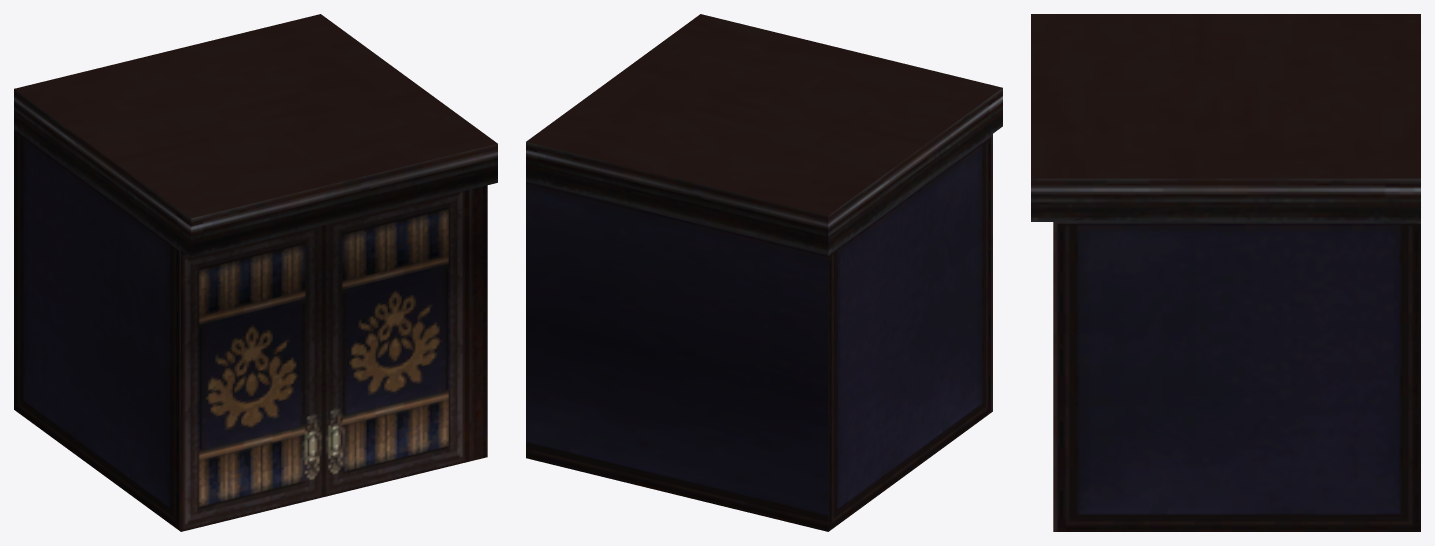
Rendered from furni_0201222.FBX.
The picture shows the model from 3 angles, left to right: view 1: azimuth 30°, elevation 25°; view 2: azimuth 150°, elevation 25°; view 3: azimuth 270°, elevation 25°; orthographic projection. The views are drawn at different scales.
Parts seen in each view (by area): view 1: furni_0201222; view 2: furni_0201222; view 3: furni_0201222.
Part boxes in pixels (x1,y1,x2,y2): furni_0201222: [14, 14, 497, 531]; furni_0201222: [526, 14, 1002, 531]; furni_0201222: [1031, 14, 1420, 531].
Size of the model in its own units: 80 by 80 by 80.
Materials: 1 (1 with a texture image).
